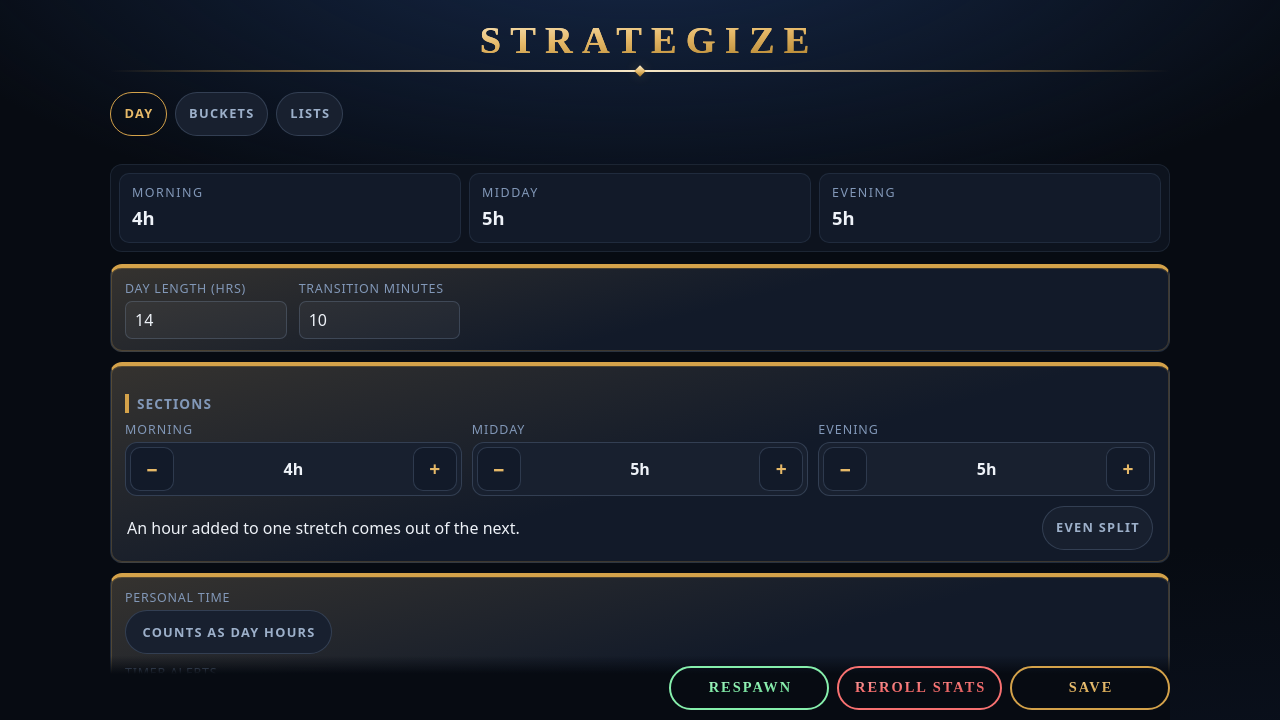
Test case: the section steppers › stops offering a step the next stretch cannot pay for
Click the button named "More Morning".
click(435, 469)  # box left=413, top=447, right=457, bottom=491
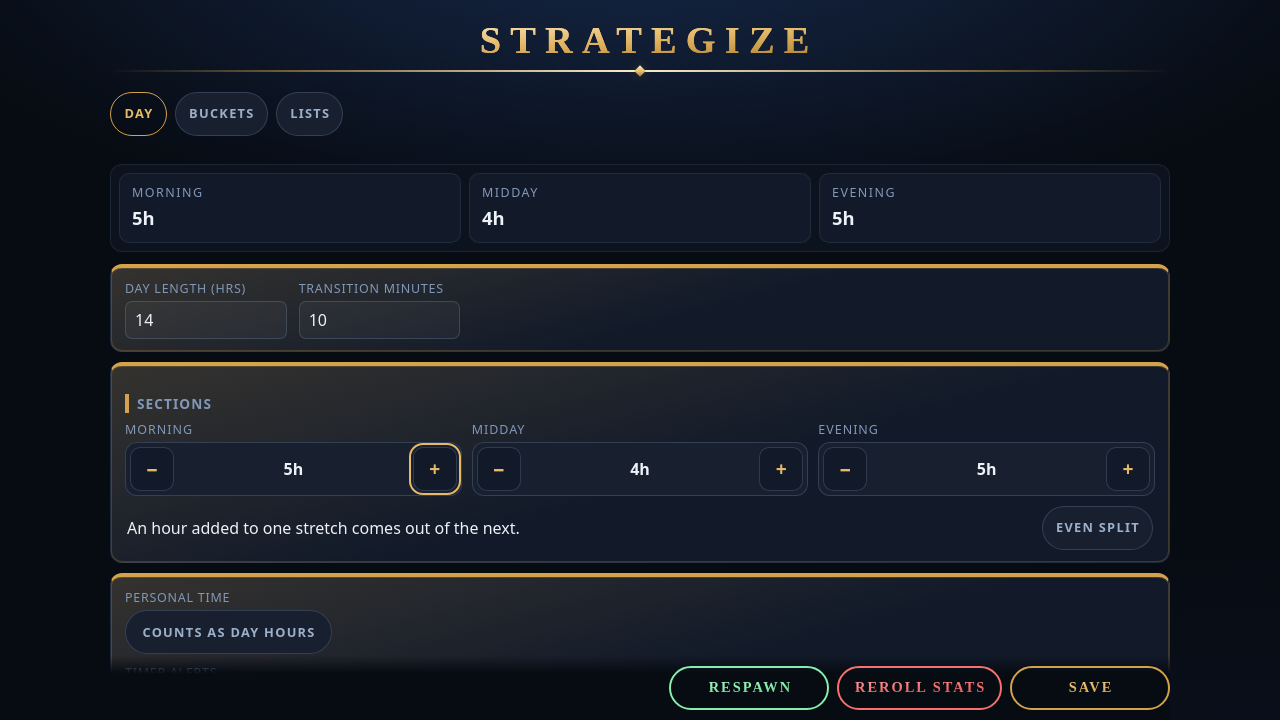
Click the button named "More Morning".
click(435, 469)  # box left=413, top=447, right=457, bottom=491
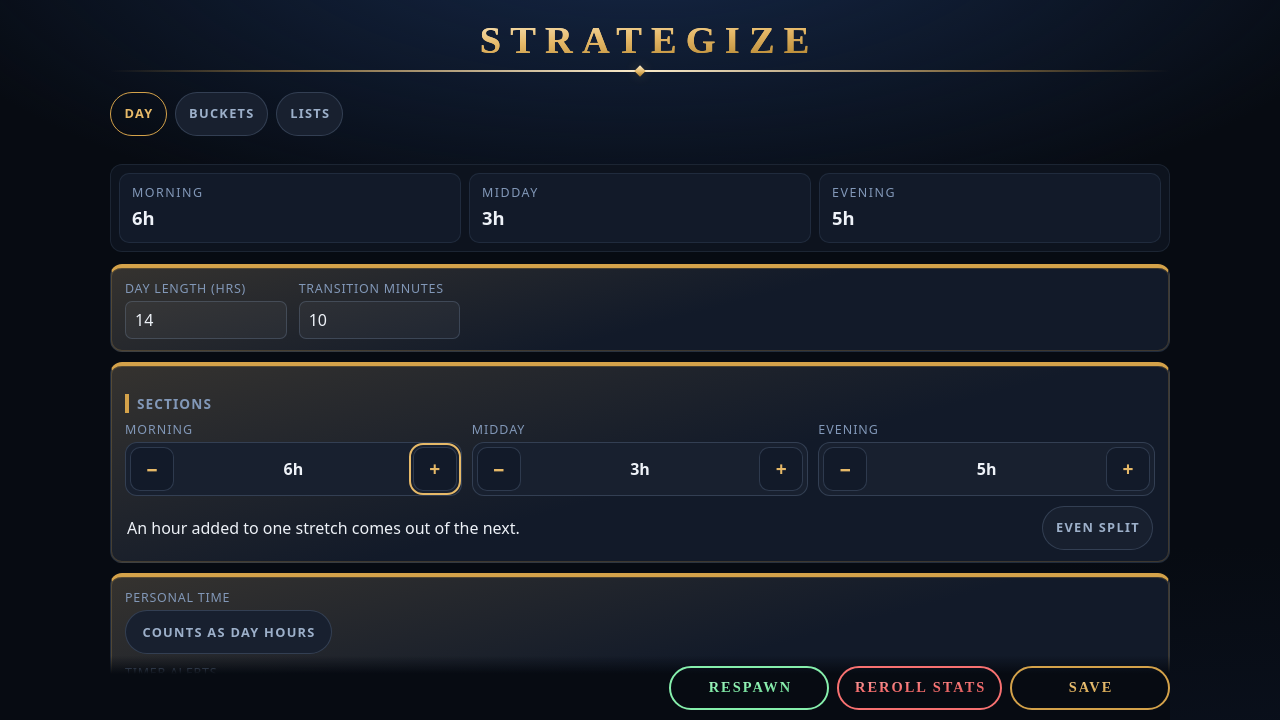
Click the button named "More Morning".
click(435, 469)  # box left=413, top=447, right=457, bottom=491
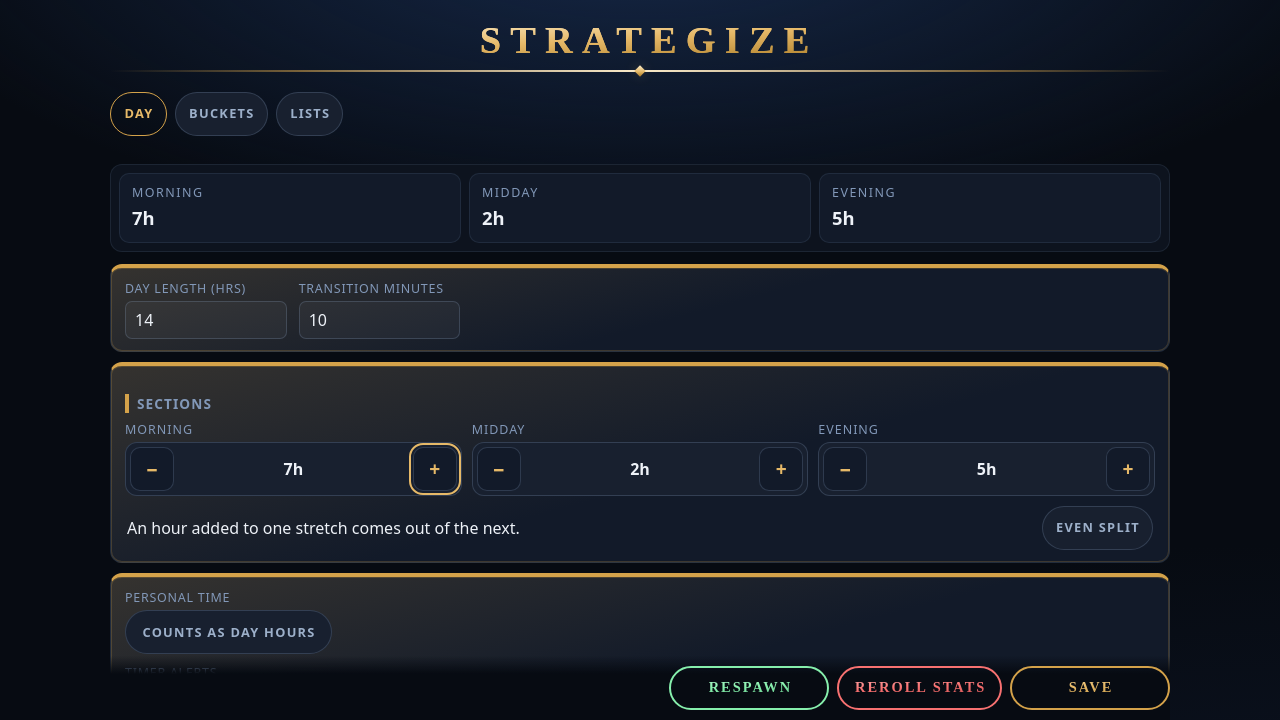
Click the button named "More Morning".
click(435, 469)  # box left=413, top=447, right=457, bottom=491
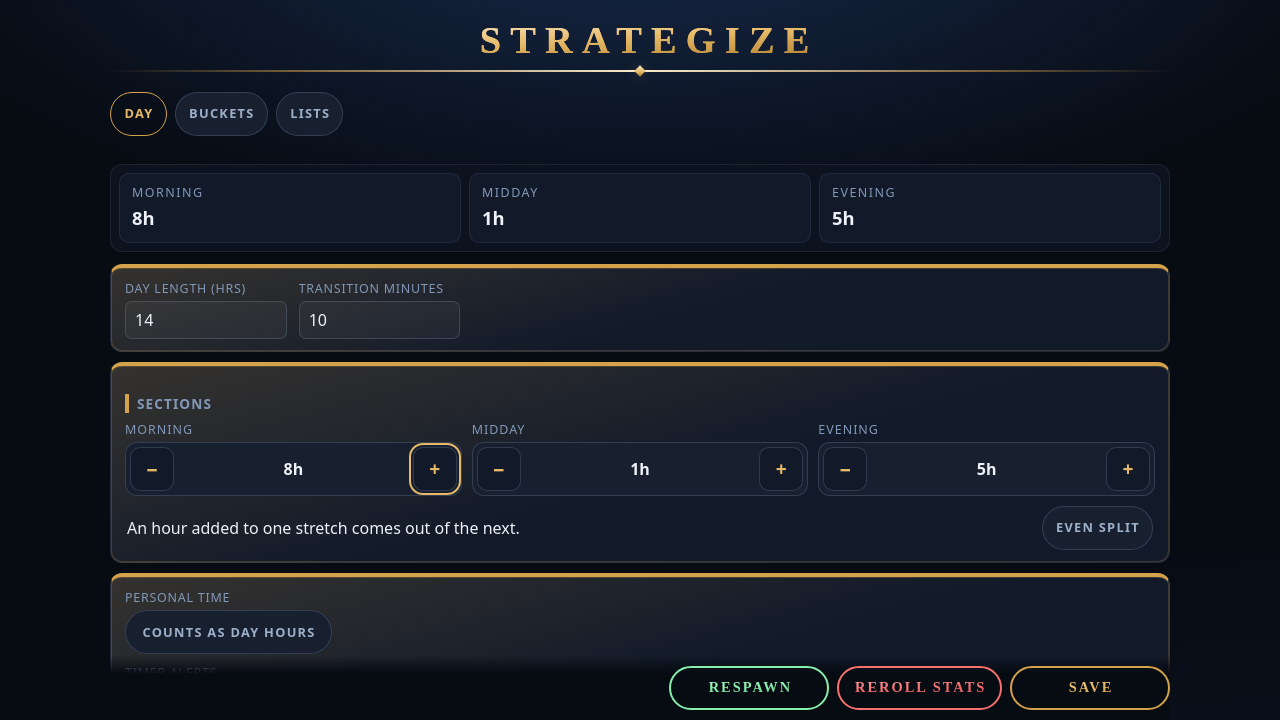
Click the button named "More Morning".
click(435, 469)  # box left=413, top=447, right=457, bottom=491
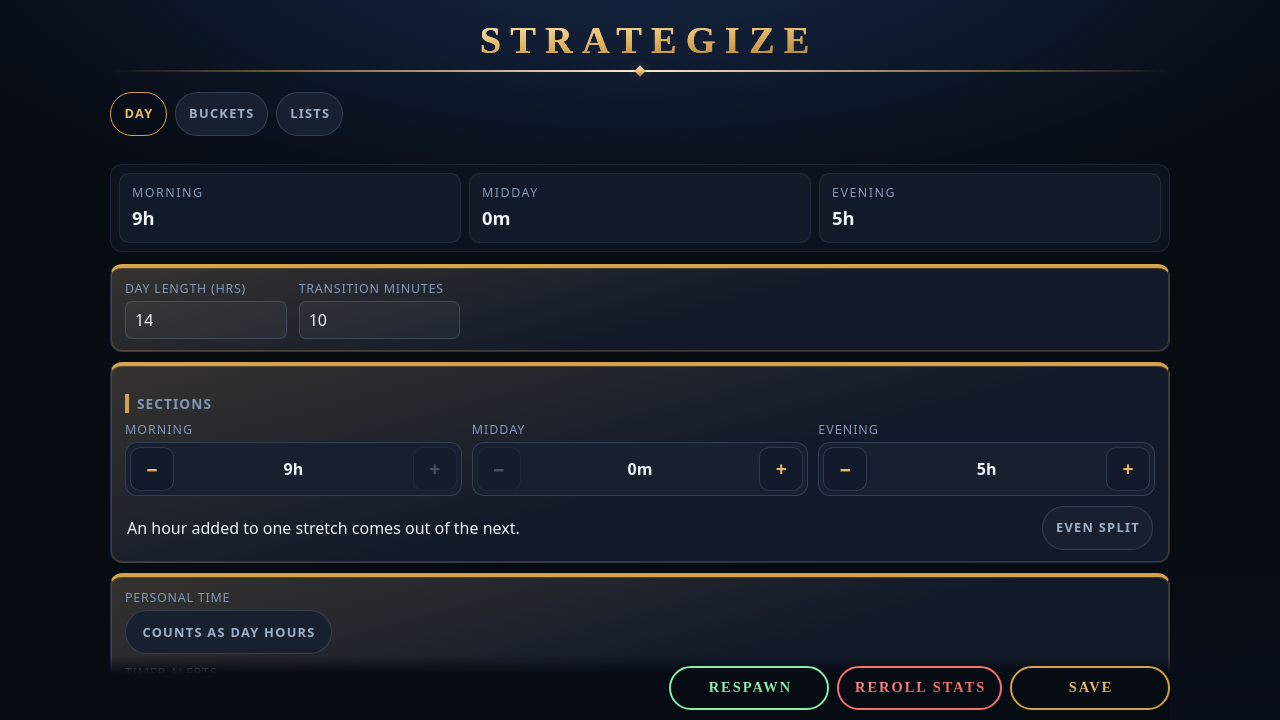
Expected: the button named "More Morning" is disabled, left=413, top=447, right=457, bottom=491
